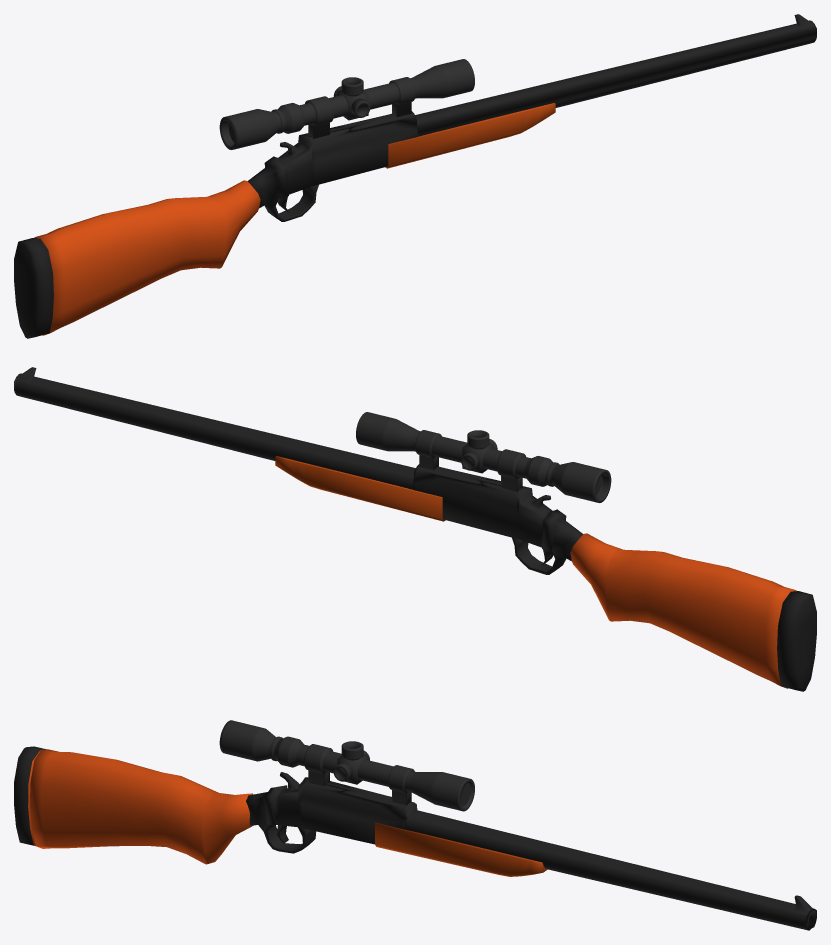
Rendered from rifle2.fbx.
The picture shows the model from 3 angles, top to bottom: view 1: azimuth 30°, elevation 25°; view 2: azimuth 150°, elevation 25°; view 3: azimuth 330°, elevation 25°; orthographic projection.
Parts seen in each view (by area): view 1: Cube, Cube.001, Cylinder, Cube.002; view 2: Cube, Cube.001, Cylinder, Cube.002; view 3: Cube, Cube.001, Cylinder, Cube.002.
Boxes of the visible parts, left/top/right/bottom form: Cube: left=14, top=180, right=260, bottom=338; Cube.001: left=248, top=14, right=816, bottom=221; Cylinder: left=219, top=59, right=474, bottom=149; Cube.002: left=385, top=103, right=555, bottom=168; Cube: left=570, top=533, right=816, bottom=691; Cube.001: left=14, top=367, right=582, bottom=574; Cylinder: left=356, top=412, right=611, bottom=502; Cube.002: left=275, top=456, right=445, bottom=521; Cube: left=14, top=746, right=253, bottom=864; Cube.001: left=246, top=772, right=816, bottom=930; Cylinder: left=219, top=720, right=474, bottom=811; Cube.002: left=375, top=822, right=547, bottom=876.
Bounding box in the file's own units: 1053 × 229 × 59.75.
